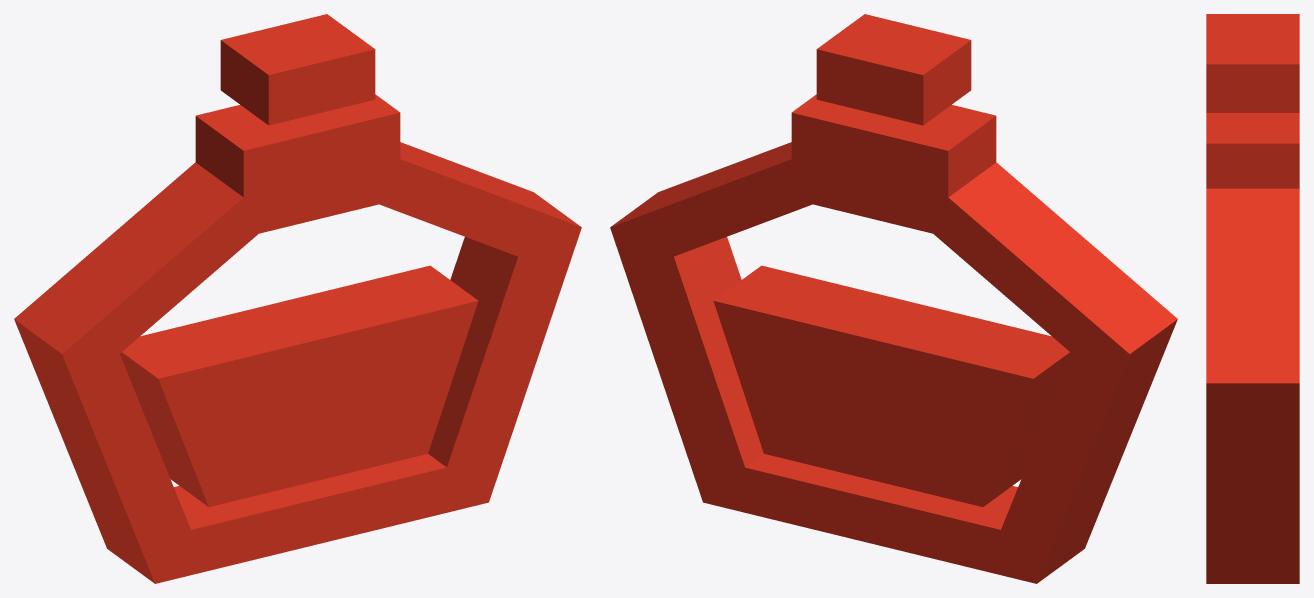
The model's file is Icon_Potion_01.fbx.
3 views of the same model, side by side, from view 1: azimuth 30°, elevation 25°; view 2: azimuth 150°, elevation 25°; view 3: azimuth 270°, elevation 25° (orthographic). The views are drawn at different scales.
Visible parts, largest first — view 1: Icon_Potion_01; view 2: Icon_Potion_01; view 3: Icon_Potion_01.
Part boxes in pixels (bbox=[...]): Icon_Potion_01: bbox=[14, 14, 581, 583]; Icon_Potion_01: bbox=[610, 14, 1177, 583]; Icon_Potion_01: bbox=[1206, 14, 1299, 583].
Size of the model in its own units: 75.22 by 66.53 by 12.06.
